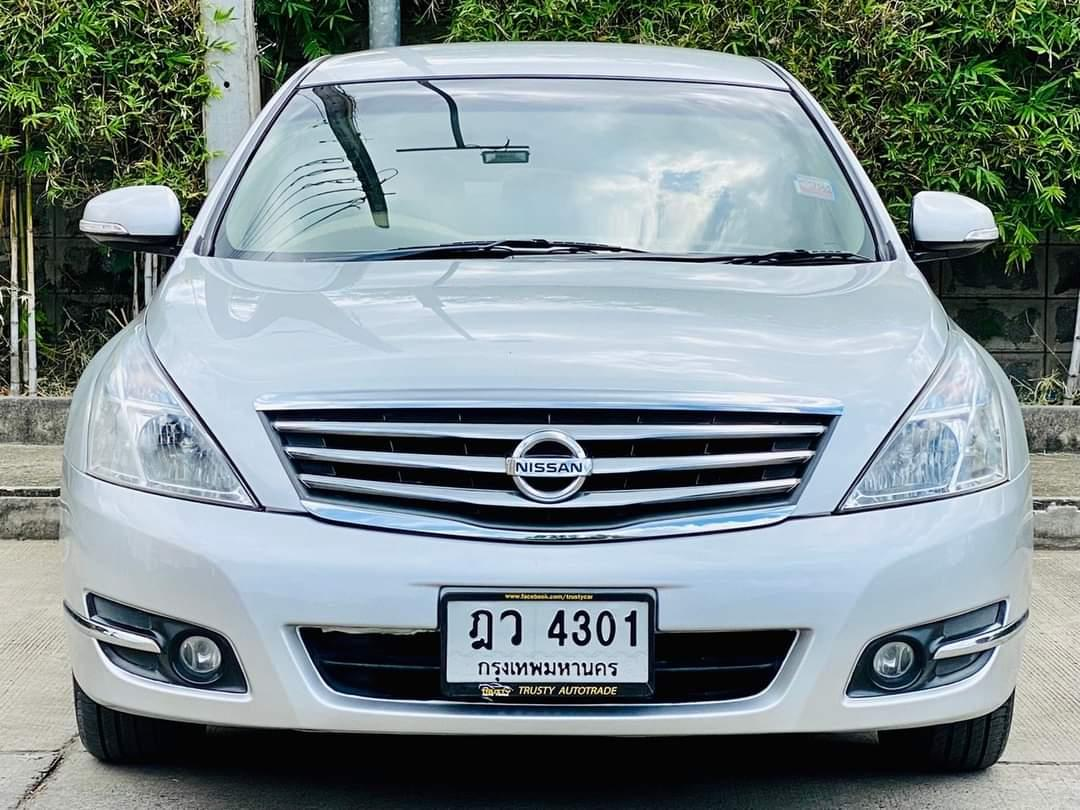license-plate: (436, 588, 660, 709)
